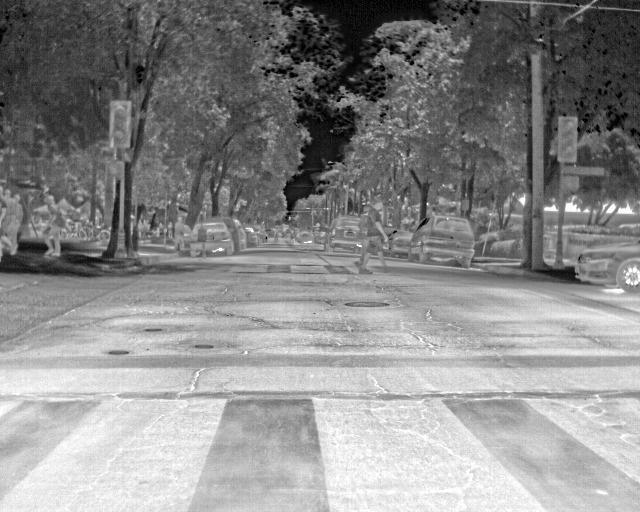bicycle: (572, 238, 637, 296), (411, 212, 476, 267), (190, 219, 239, 256), (329, 211, 367, 250), (390, 229, 416, 260), (235, 218, 250, 252)
empty: (356, 198, 389, 273), (38, 195, 67, 258), (168, 214, 190, 257)
